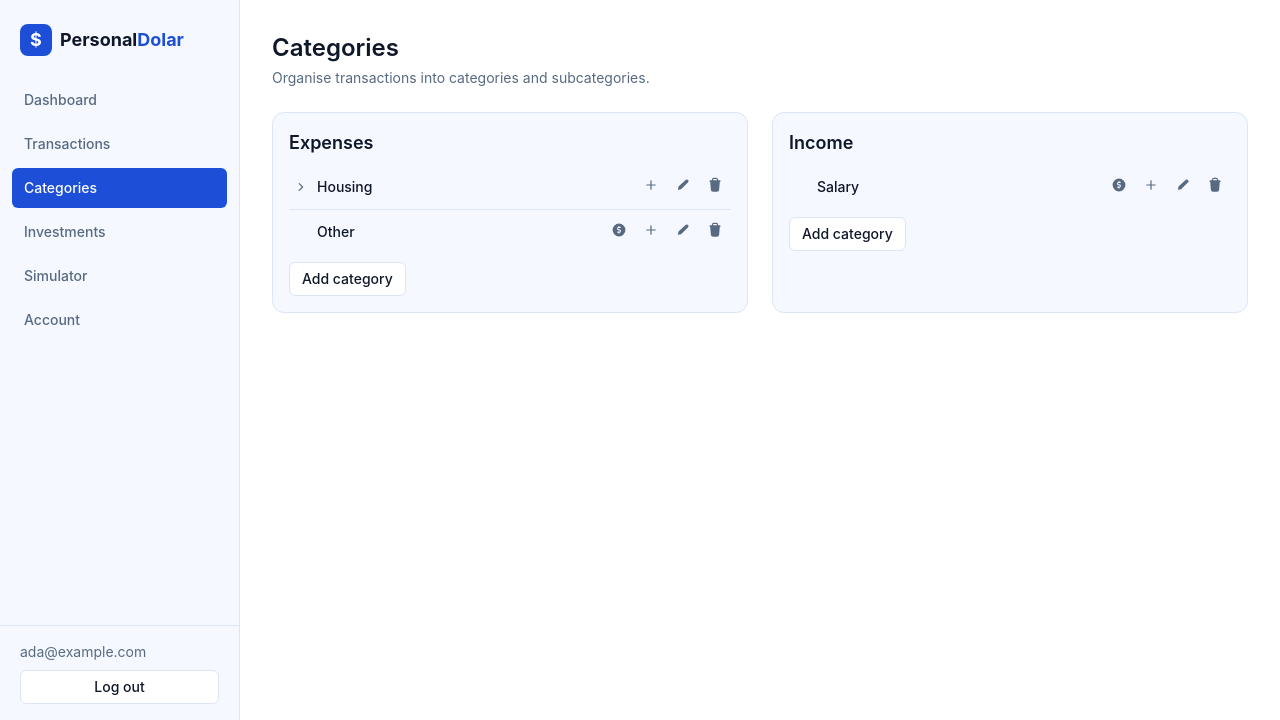
Test case: CategoriesPage monthly amounts › has no period selector, totals request or transaction dialog
Check: the heading "Categories" is shown, box 272,33 -> 399,62
Click the button "Housing".
click(345, 186)  # box 289,169 -> 631,205
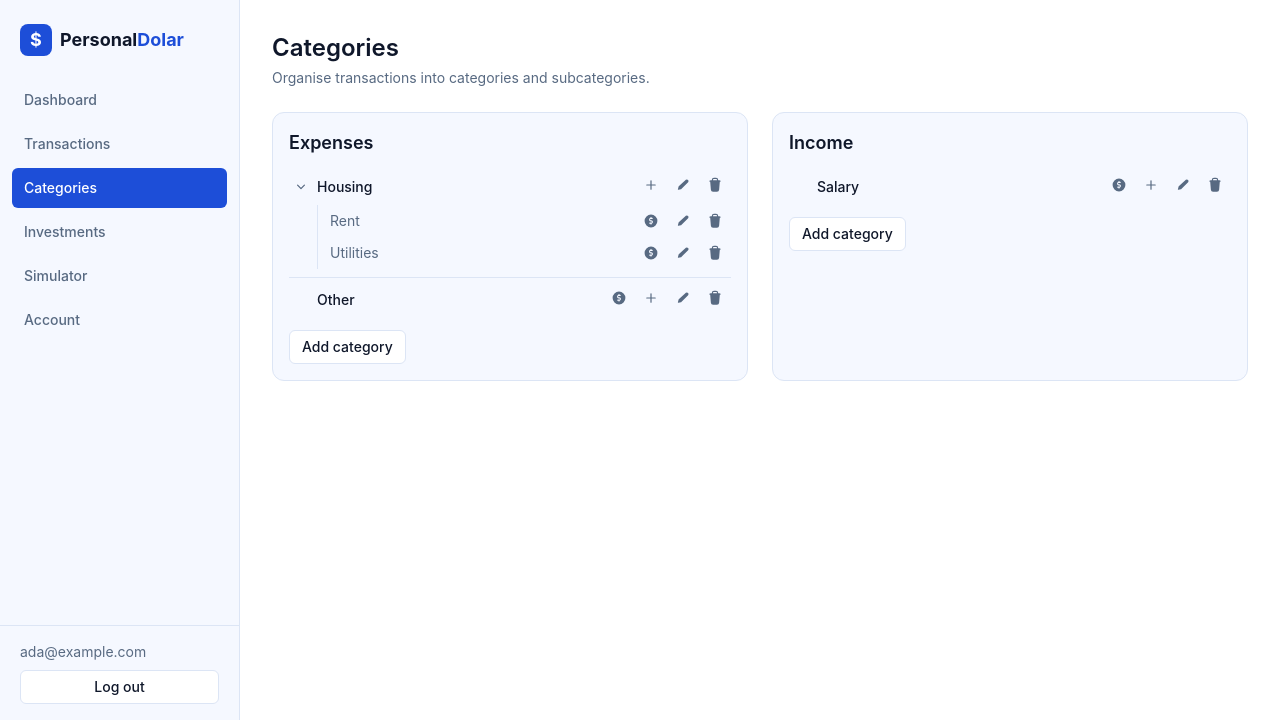
Check: the button named "Add monthly amount to Rent" is shown, box 635,205 -> 667,237
